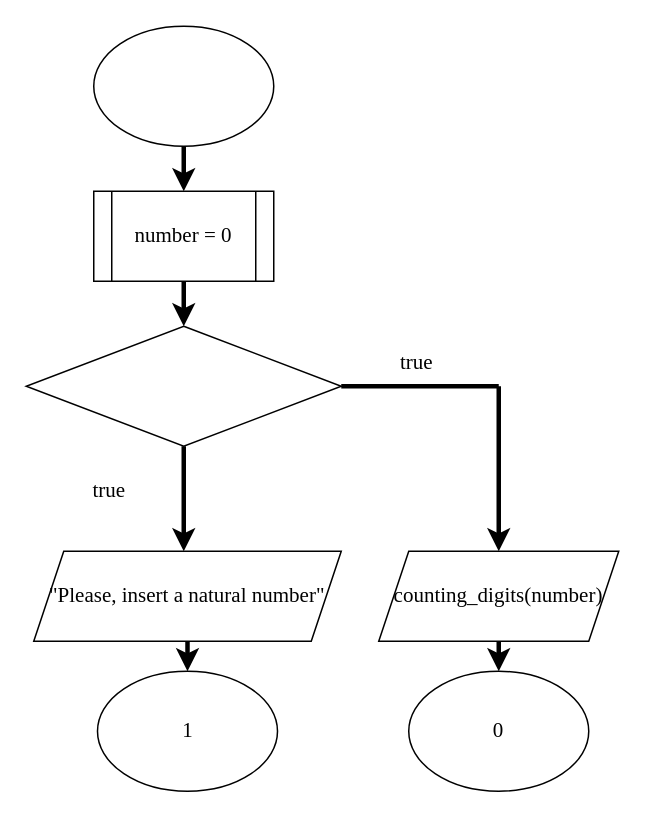
Image size: 645x818. Some labels were removed from this diagram. Each missing label, with the centre of its shape:
scanf("%d", &number) != 1: point 183,385
Начало: point 183,85
